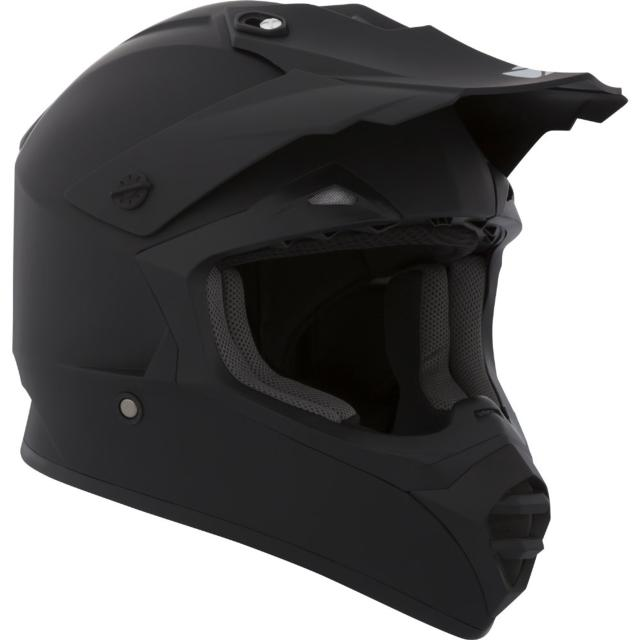illegal_helmet: (8, 0, 632, 640)
